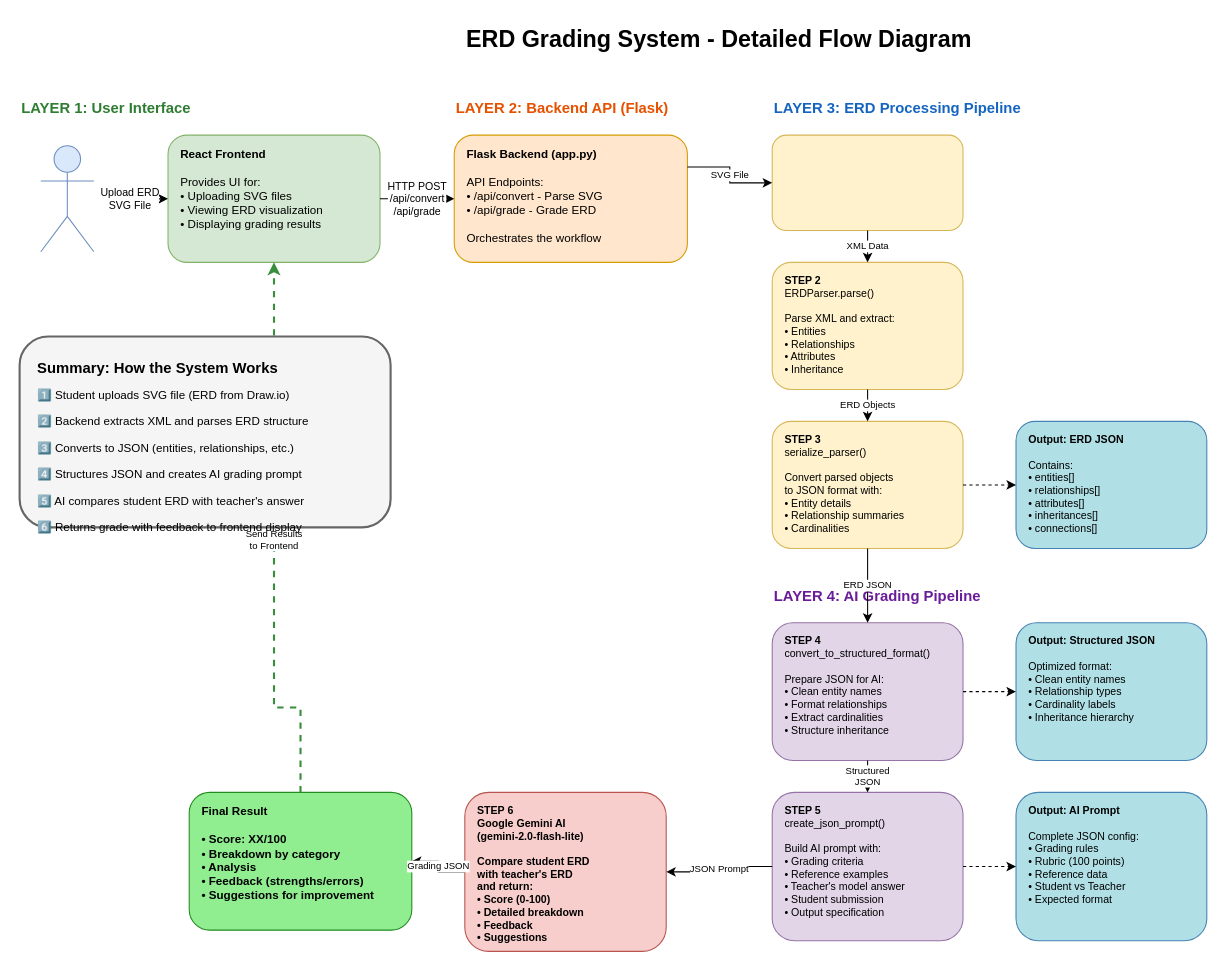
The diagram is 1225 pixels wide and 970 high, and some of its shapes have lost their labels. Each missing label, with the centre of its shape:
STEP 1 svg_to_drawio_erd() Extract embedded Draw.io XML data from SVG file: the point at 867,182
Student/Teacher: the point at 67,198
